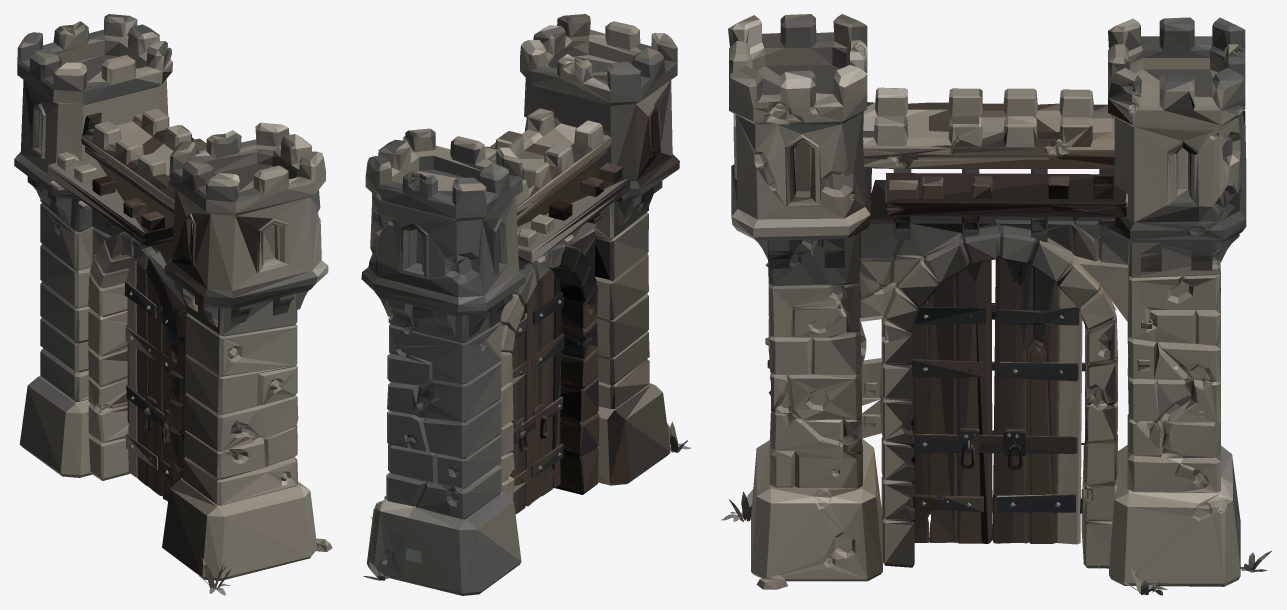
Rendered from Barbican.glb.
3 renders of one model, left to right at view 1: azimuth 30°, elevation 25°; view 2: azimuth 150°, elevation 25°; view 3: azimuth 270°, elevation 25°, orthographic. The views are drawn at different scales.
Visible parts, largest first — view 1: world; view 2: world; view 3: world.
Boxes of the visible parts, x1,y1,x2,y2 form: world: (14,14,332,595); world: (361,14,690,595); world: (721,14,1271,595).
Bounding box in the file's own units: 0.3965 × 0.998 × 0.9824.
